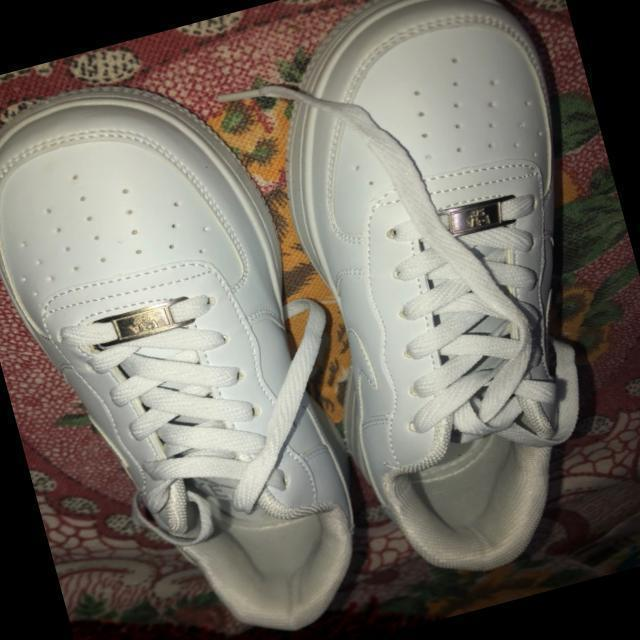nike fake air force: (230, 0, 640, 599), (0, 45, 387, 640)
